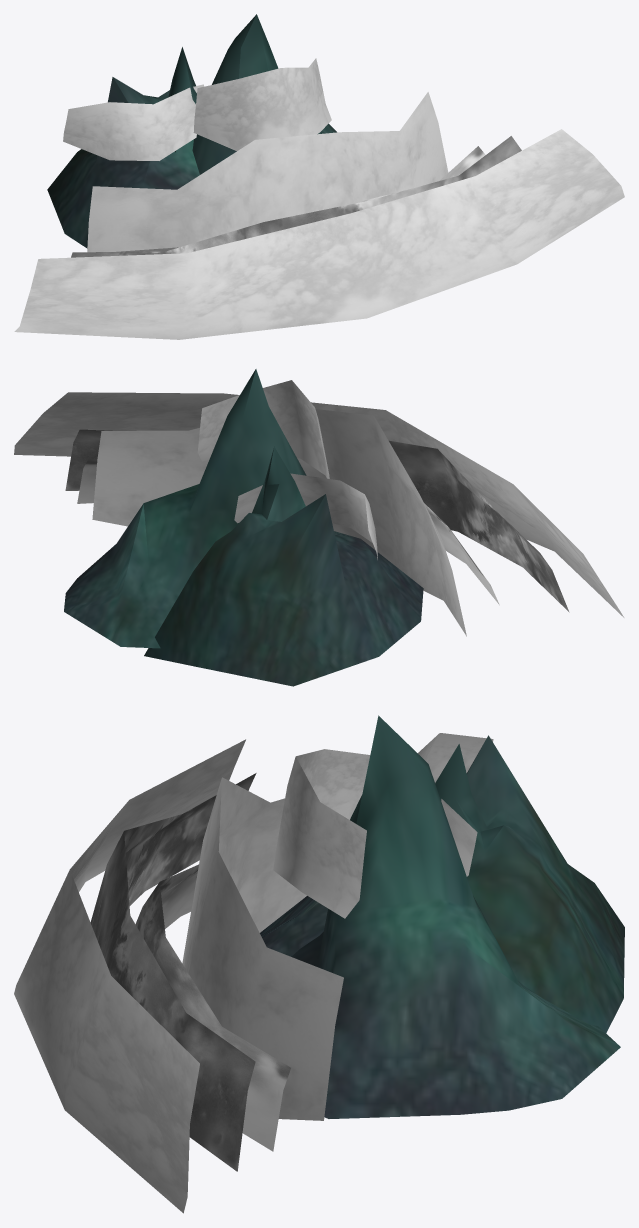
File: pir_m_are_isl_mysterious_02_dock_lod.fbx
The picture shows the model from 3 angles, top to bottom: view 1: azimuth 30°, elevation 25°; view 2: azimuth 150°, elevation 25°; view 3: azimuth 270°, elevation 25°; orthographic projection. The views are drawn at different scales.
Visible parts, largest first — view 1: base_fog2, base_fog, base_fog3, hill1, base_fog6, base_fog4, hill, base_fog5; view 2: hill1, hill, base_fog, base_fog2, base_fog4, base_fog3, base_fog6, base_fog5; view 3: hill, base_fog2, hill1, base_fog, base_fog4, base_fog3, base_fog5, base_fog6.
Boxes of the visible parts, x1,y1,x2,y2 form: base_fog2: (14, 129, 624, 339); base_fog: (87, 92, 448, 252); base_fog3: (193, 58, 331, 150); hill1: (47, 47, 199, 248); base_fog6: (63, 84, 204, 160); base_fog4: (71, 136, 521, 257); hill: (192, 14, 336, 174); base_fog5: (116, 146, 485, 251); hill1: (144, 446, 423, 686); hill: (64, 369, 306, 648); base_fog: (92, 409, 466, 636); base_fog2: (14, 392, 624, 617); base_fog4: (65, 429, 569, 612); base_fog3: (197, 380, 329, 478); base_fog6: (234, 473, 377, 559); base_fog5: (77, 459, 499, 605); hill: (292, 715, 620, 1118); base_fog2: (14, 739, 245, 1213); hill1: (260, 735, 624, 1032); base_fog: (182, 777, 343, 1120); base_fog4: (90, 773, 256, 1171); base_fog3: (273, 749, 370, 918); base_fog5: (135, 864, 290, 1151); base_fog6: (417, 733, 493, 876).
Size of the model in its own units: 468584 by 177177 by 293550.
3 materials, 3 textured.
